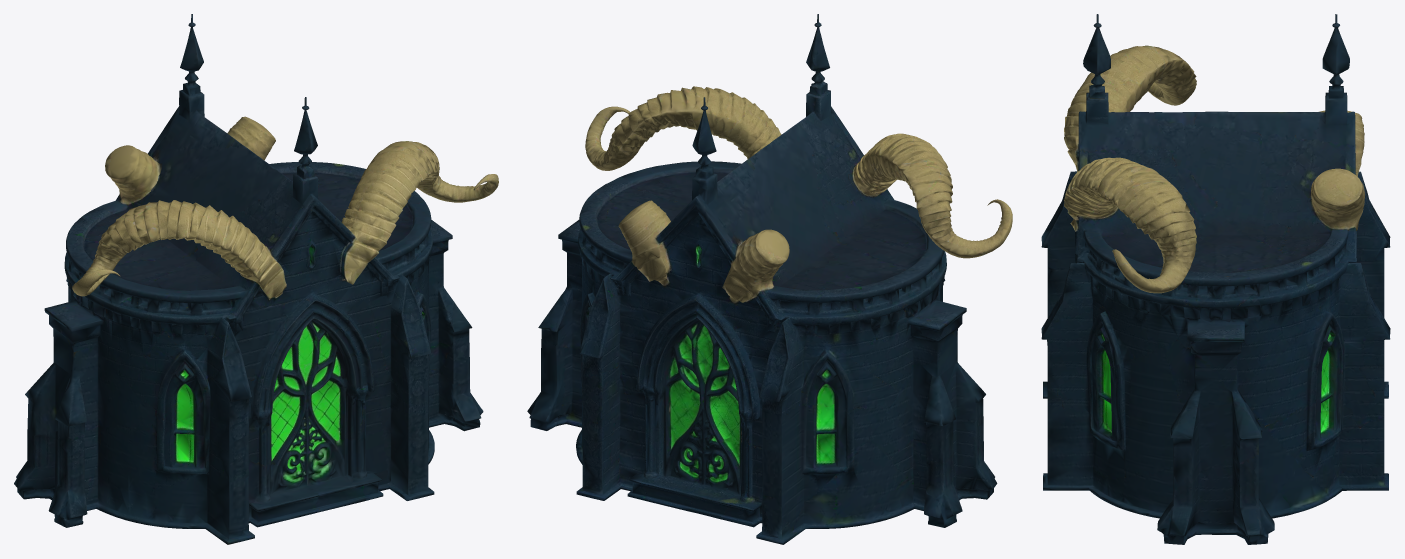
The model's file is demon-church.glb.
3 renders of one model, left to right at view 1: azimuth 30°, elevation 25°; view 2: azimuth 150°, elevation 25°; view 3: azimuth 270°, elevation 25°, orthographic. The views are drawn at different scales.
Size of the model in its own units: 1.9 by 1.7 by 1.27.
Materials: 1 (1 with a texture image).
